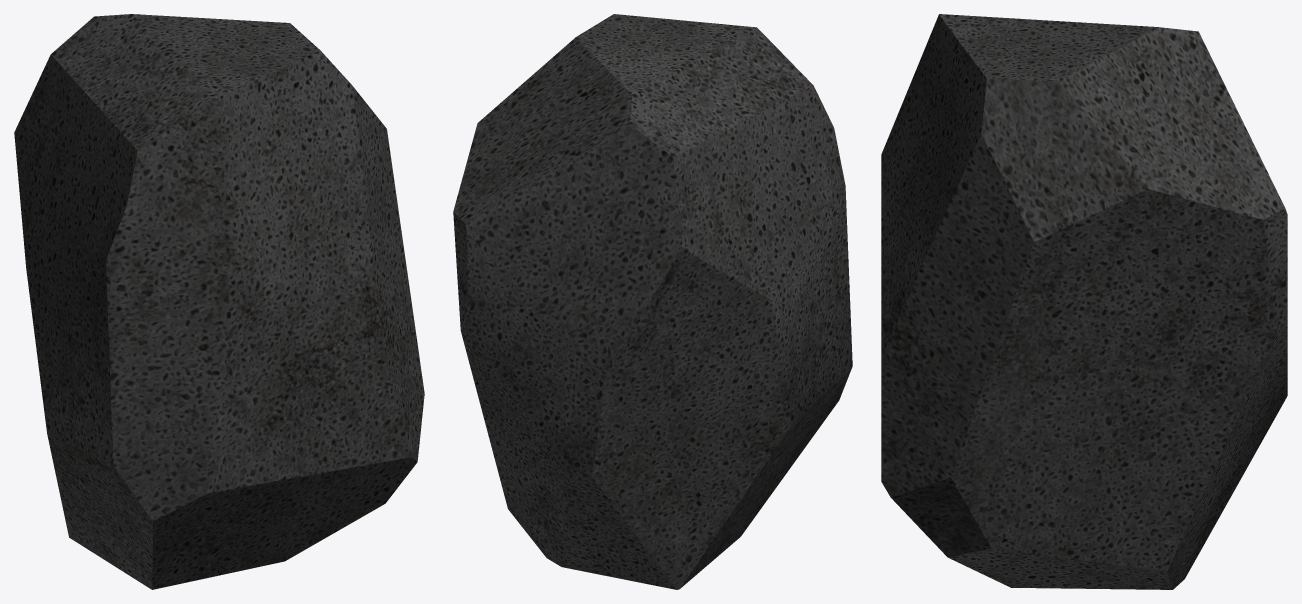
The model's file is Rock1.fbx.
3 views of the same model, side by side, from view 1: azimuth 30°, elevation 25°; view 2: azimuth 150°, elevation 25°; view 3: azimuth 270°, elevation 25° (orthographic). The views are drawn at different scales.
Visible parts, largest first — view 1: Rock1; view 2: Rock1; view 3: Rock1.
Boxes of the visible parts, bbox=[...] form: Rock1: bbox=[14, 14, 424, 589]; Rock1: bbox=[453, 14, 852, 589]; Rock1: bbox=[881, 14, 1287, 589].
Bounding box in the file's own units: 185 × 283 × 200.
1 material, 1 textured.
